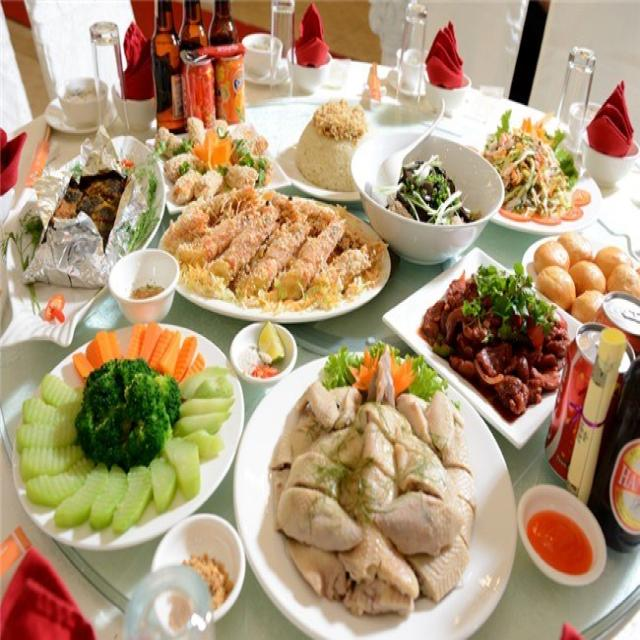banh bao chien: (536, 233, 640, 314)
bia: (156, 0, 180, 129), (208, 1, 239, 43), (181, 0, 207, 46)
coca cola: (182, 50, 215, 126)
fanta: (218, 51, 248, 118)
ga luoc: (272, 364, 476, 624)
goi: (495, 112, 573, 226)
la ghim: (10, 340, 235, 518)
tom chay toi: (182, 196, 372, 304)
tom chien bot: (153, 132, 271, 195)
tuong ot: (522, 477, 602, 589)
xoi: (292, 100, 382, 186)
